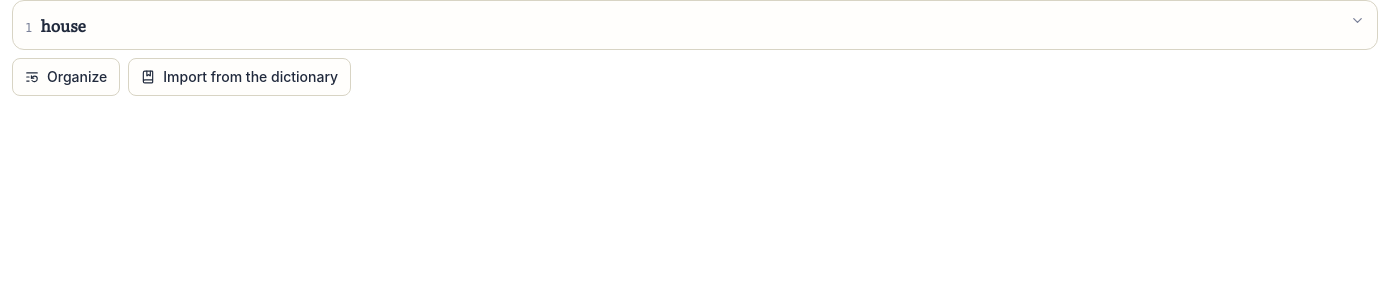
it: importing meanings from the attached dictionary entry › asks which attached dictionary entry should supply meanings
Click the button "Import from the dictionary" at x=240, y=77, box [128,58,351,96]
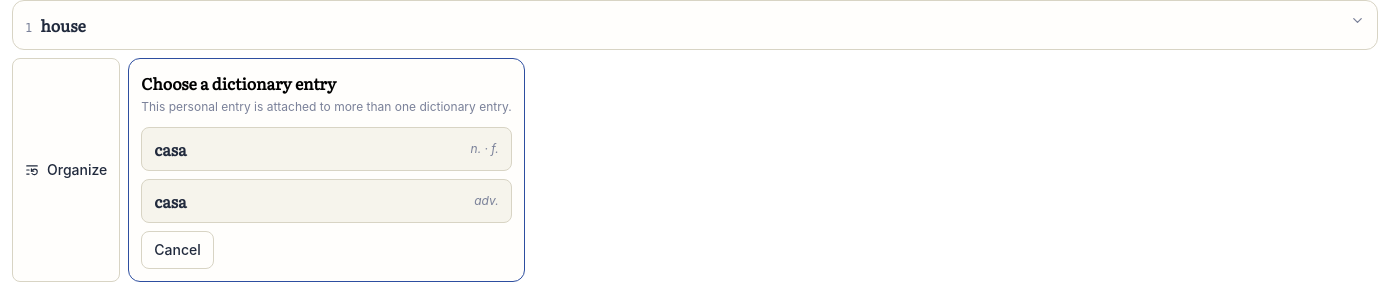
Expected: the text "Choose a dictionary entry" is shown, [141,71,336,95]
Click the button "casa adv." at x=170, y=201, box [141,179,512,223]
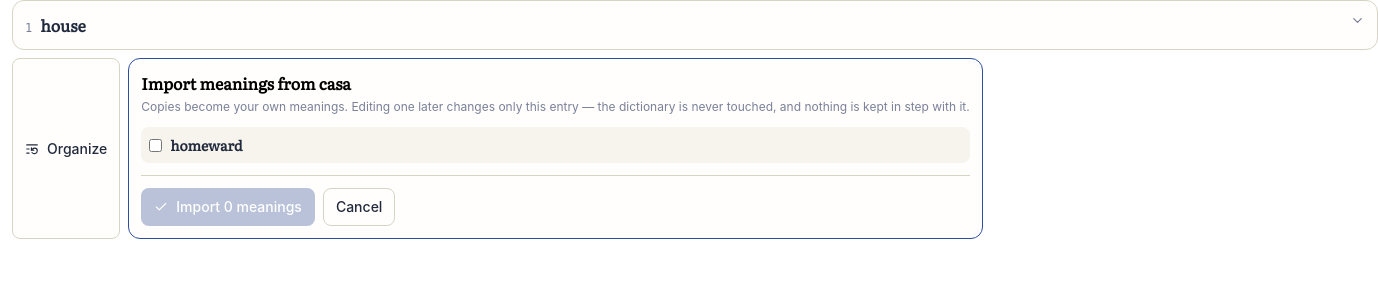
Expected: the checkbox named "Import homeward" is shown, [149,139,162,152]
